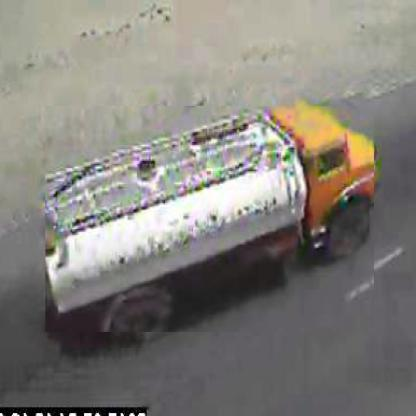truck: (45, 107, 375, 334)
